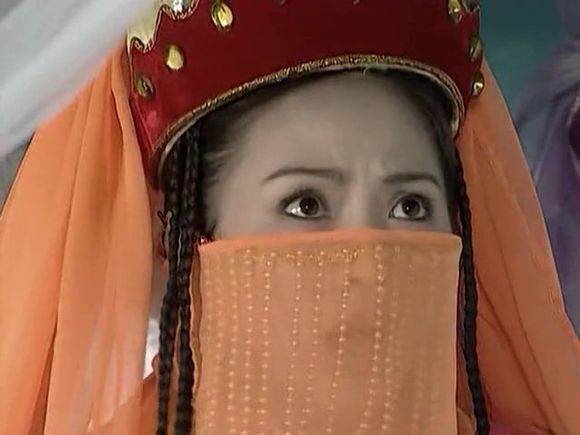face_mask: (211, 91, 457, 380)
